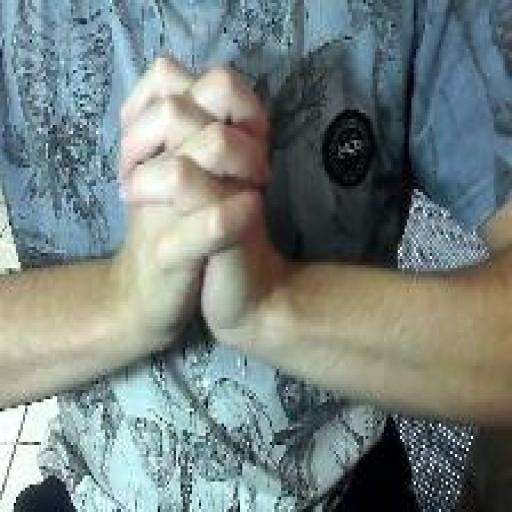Mi -snake-: (113, 50, 276, 355)
